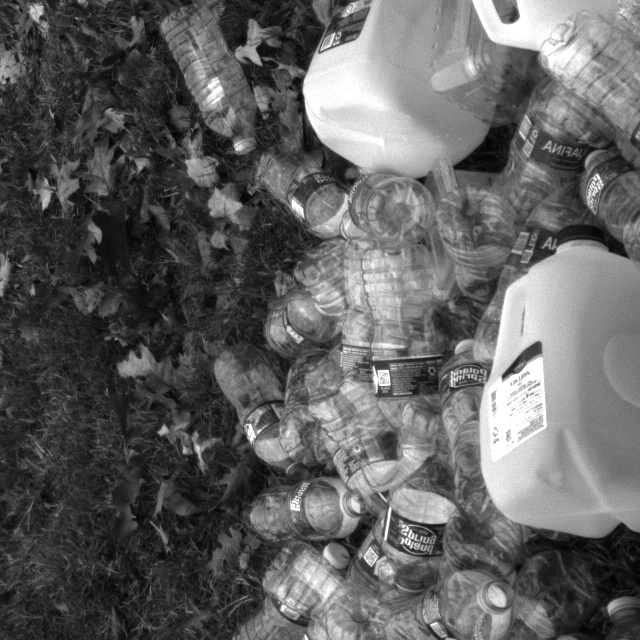bottle: (361, 393, 458, 618), (159, 0, 283, 172), (216, 515, 357, 640), (194, 322, 317, 463), (548, 0, 640, 177), (219, 463, 372, 555), (258, 146, 369, 258), (245, 472, 379, 543), (331, 574, 414, 640), (588, 584, 640, 640)
can: (455, 233, 640, 531), (288, 0, 514, 193), (407, 0, 629, 82)
container: (416, 0, 541, 134)
